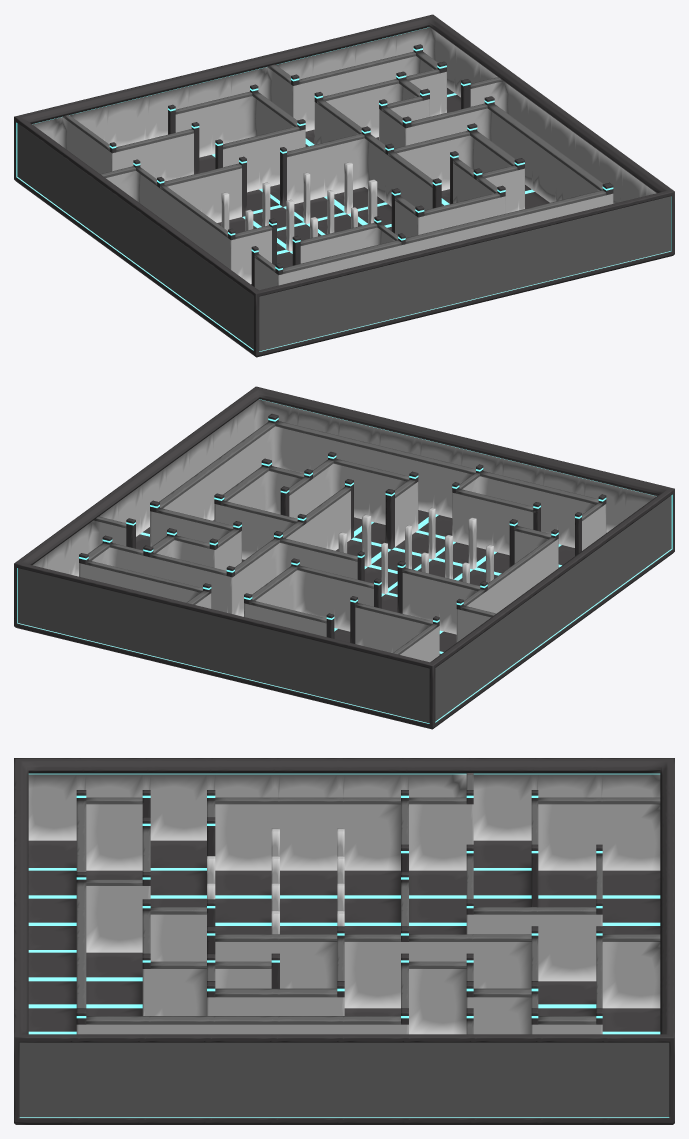
Rendered from LevelOneMaze_withoutHole.fbx.
3 renders of one model, top to bottom at view 1: azimuth 30°, elevation 25°; view 2: azimuth 150°, elevation 25°; view 3: azimuth 270°, elevation 25°, orthographic. The views are drawn at different scales.
Visible parts, largest first — view 1: Plane; view 2: Plane; view 3: Plane.
Boxes of the visible parts, left/top/right/bottom form: Plane: left=14, top=14, right=674, bottom=357; Plane: left=14, top=386, right=674, bottom=729; Plane: left=14, top=758, right=674, bottom=1124.
Size of the model in its own units: 25.3 by 4.22 by 25.3.
